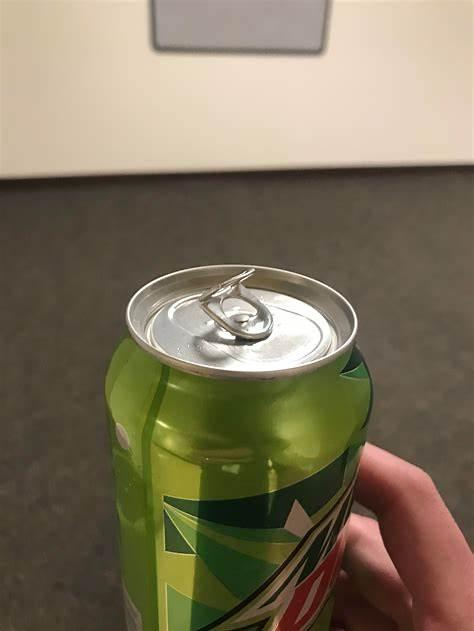metal: (105, 265, 373, 630)
